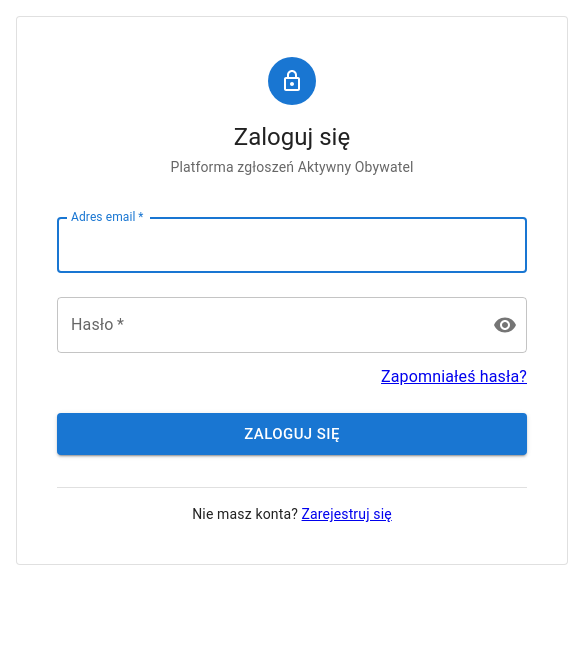
LoginPage Component › shows validation error when fields are empty
The image size is (585, 646).
Step 1. Click the button "Zaloguj się" → (292, 434), box [57,413,527,455]
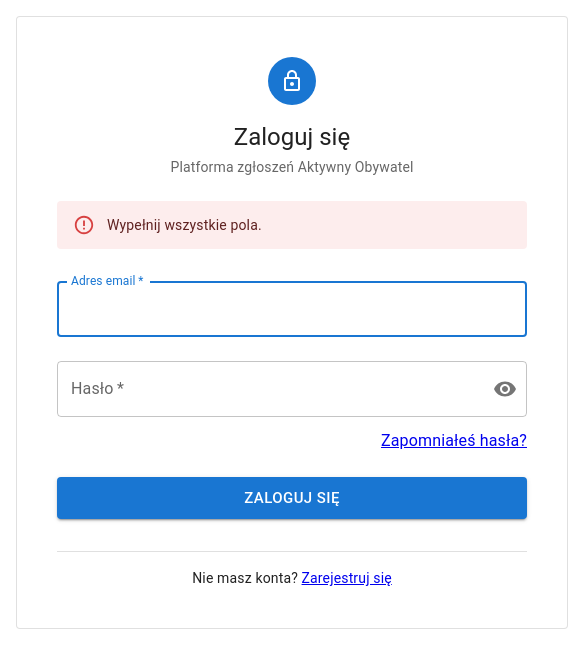
Expected: the text "Wypełnij wszystkie pola." is shown, [107,217,262,233]
